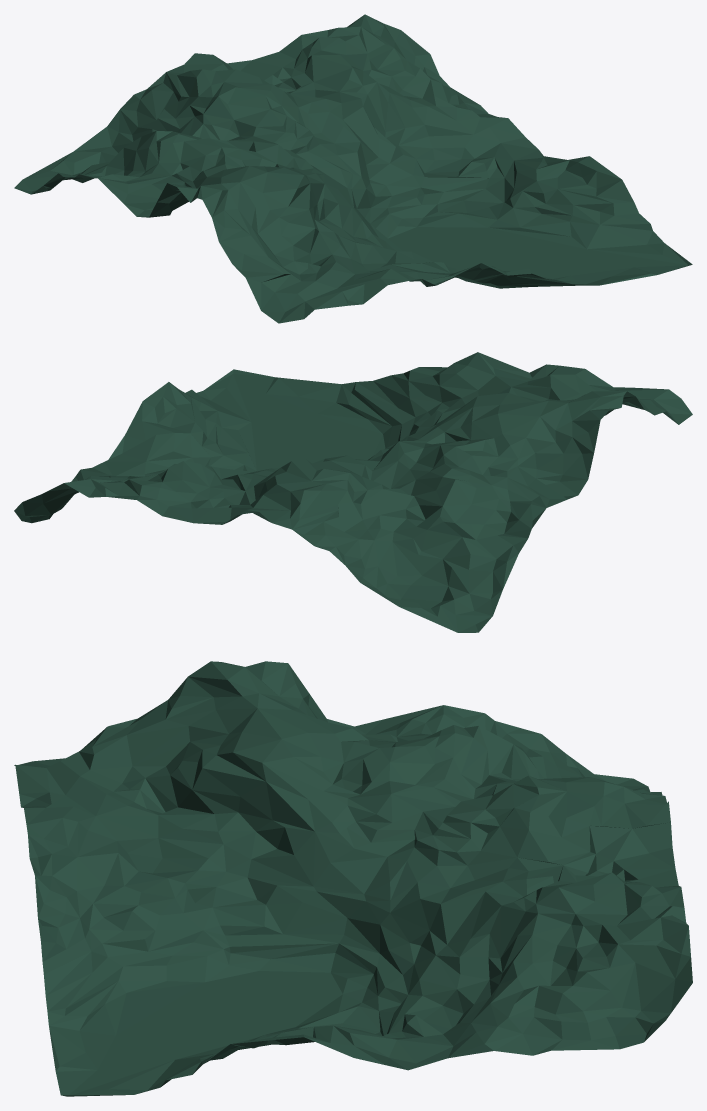
Rendered from SM_large_rock_36.fbx.
The picture shows the model from 3 angles, top to bottom: view 1: azimuth 30°, elevation 25°; view 2: azimuth 150°, elevation 25°; view 3: azimuth 270°, elevation 25°; orthographic projection. The views are drawn at different scales.
Parts seen in each view (by area): view 1: large_rock_36; view 2: large_rock_36; view 3: large_rock_36.
Part boxes in pixels (x1,y1,x2,y2): large_rock_36: (14,14,692,323); large_rock_36: (14,352,692,632); large_rock_36: (14,661,692,1096).
Size of the model in its own units: 0.0168 by 0.00461 by 0.0169.
